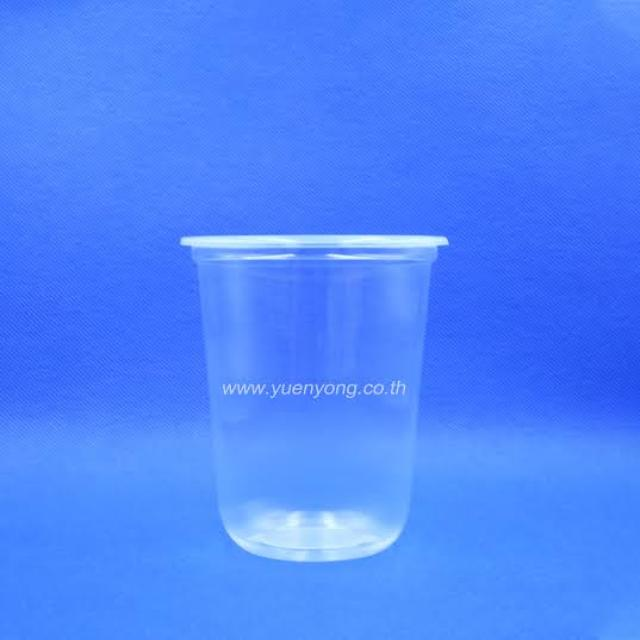plastic cup: (163, 222, 456, 569)
